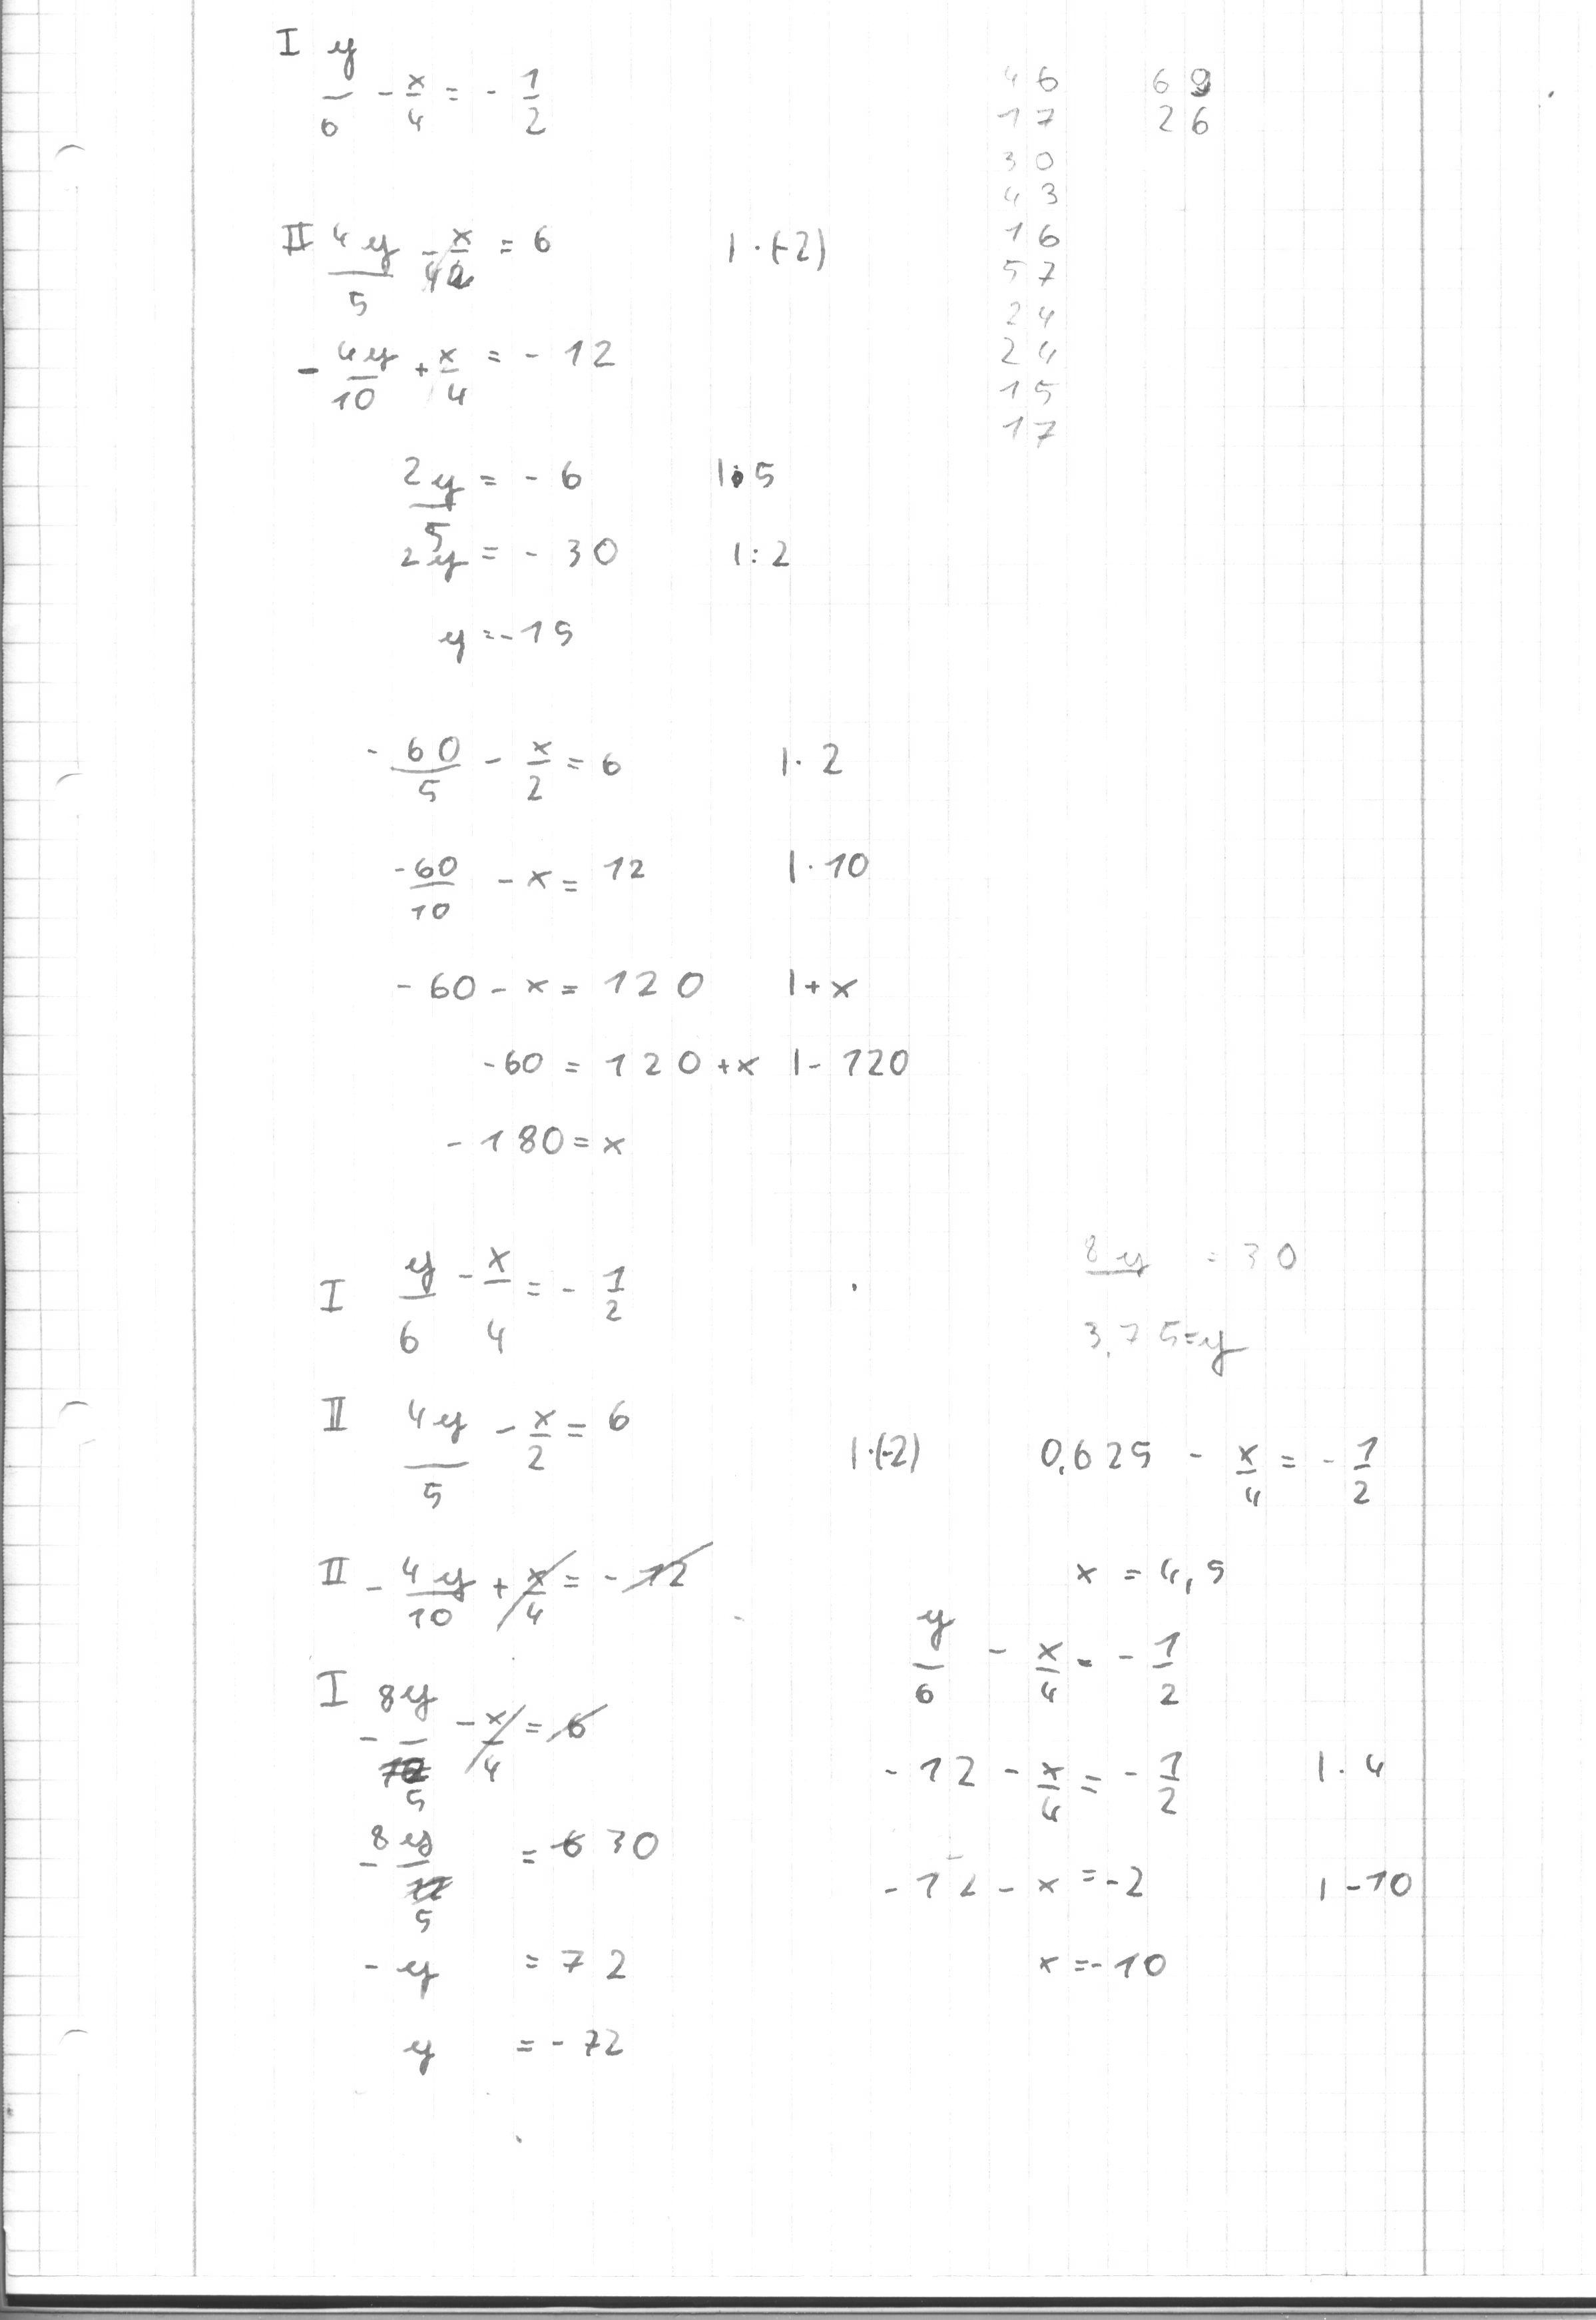word: (834, 1544, 1436, 2029), (348, 712, 926, 1184), (264, 192, 844, 437), (293, 1530, 713, 1816), (284, 1223, 678, 1522), (325, 1814, 696, 2108), (374, 438, 814, 685), (816, 1389, 1402, 1535), (246, 1, 613, 187)
